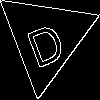D: (21, 13, 68, 70)
